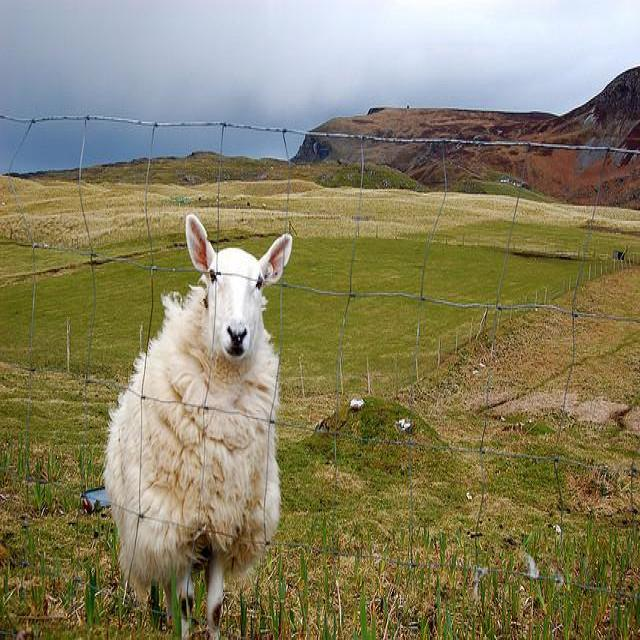Sheep: (104, 215, 293, 631)
